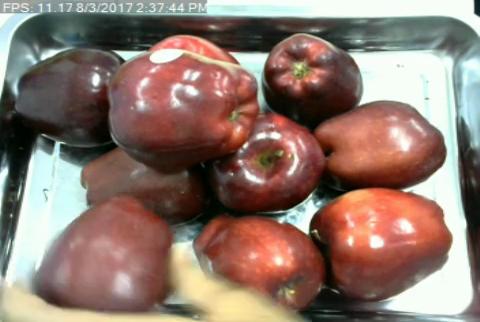Apple: (107, 46, 262, 163), (308, 184, 456, 306), (34, 193, 175, 314), (191, 210, 327, 315), (310, 98, 447, 192), (208, 109, 327, 216), (13, 45, 125, 148), (78, 143, 214, 226), (260, 29, 366, 124)
